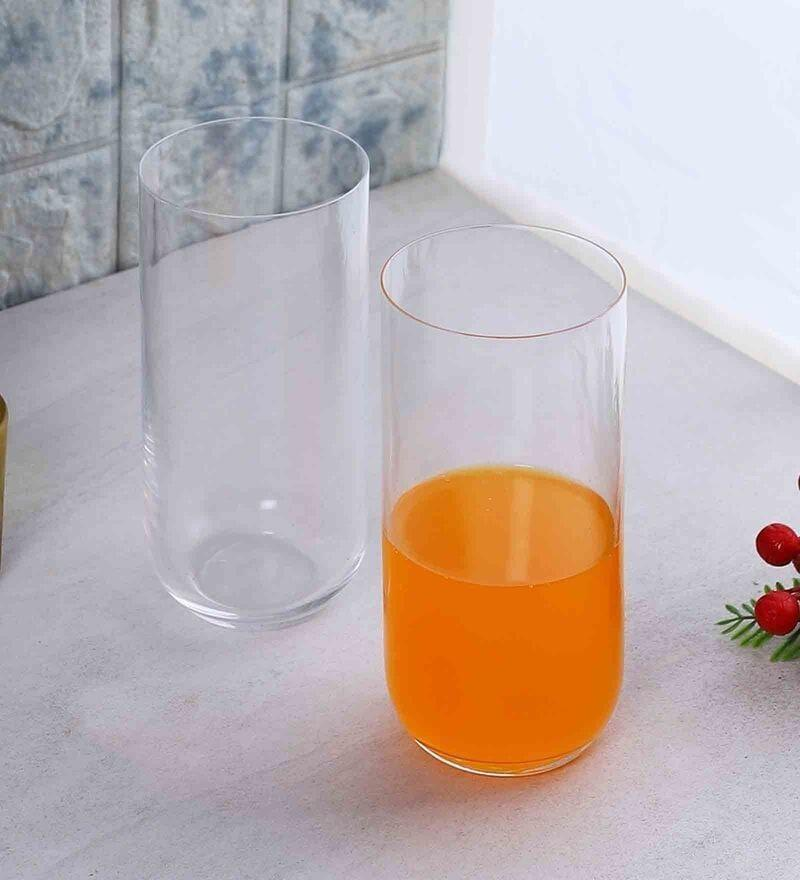glass-normal: (371, 220, 630, 793), (135, 115, 383, 638)
